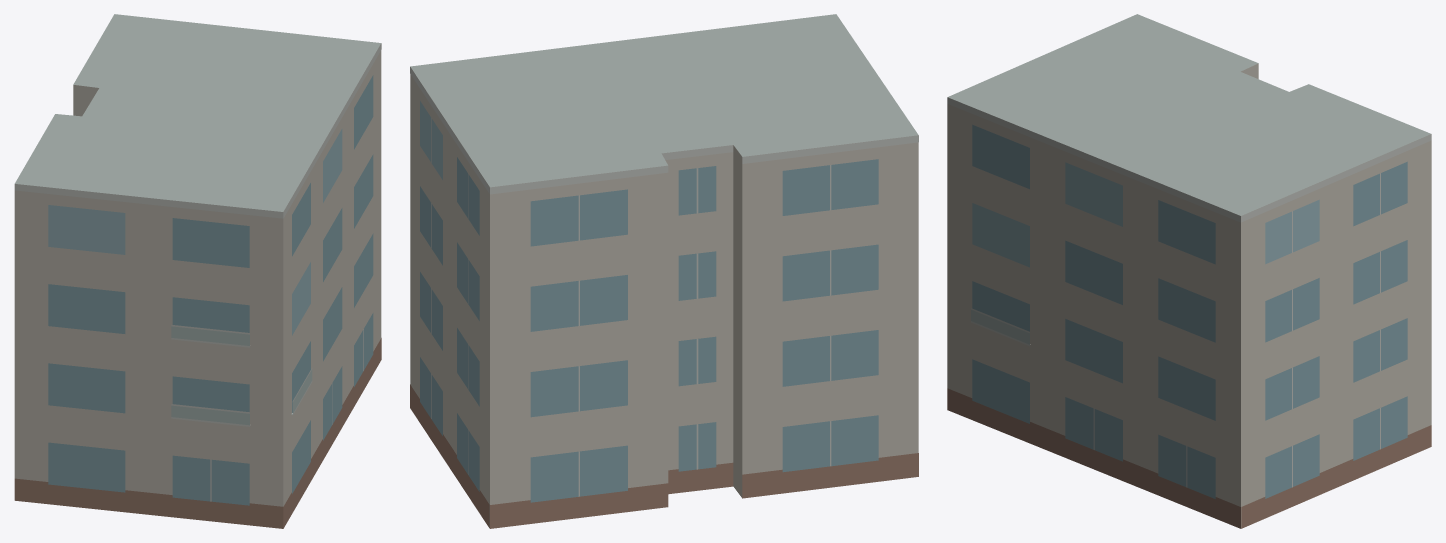
File: survey-upis-32805542.glb
The picture shows the model from 3 angles, left to right: view 1: azimuth 30°, elevation 25°; view 2: azimuth 150°, elevation 25°; view 3: azimuth 270°, elevation 25°; orthographic projection. The views are drawn at different scales.
Visible parts, largest first — view 1: survey-upis-32805542.tmp; view 2: survey-upis-32805542.tmp; view 3: survey-upis-32805542.tmp.
Part boxes in pixels (<box>): survey-upis-32805542.tmp: <box>14,14,381,528</box>; survey-upis-32805542.tmp: <box>410,14,918,528</box>; survey-upis-32805542.tmp: <box>947,14,1431,528</box>.
Bounding box in the file's own units: 16.21 × 11.7 × 16.42.
